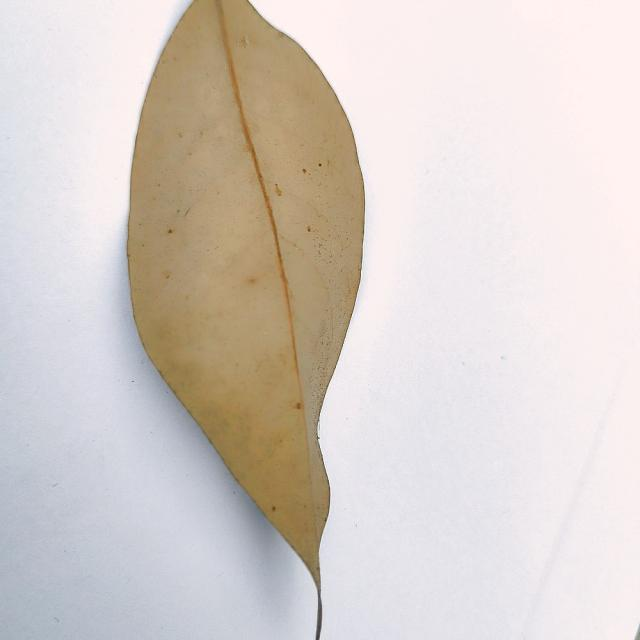Dry_Leaf-Lychee: (125, 0, 366, 588)
